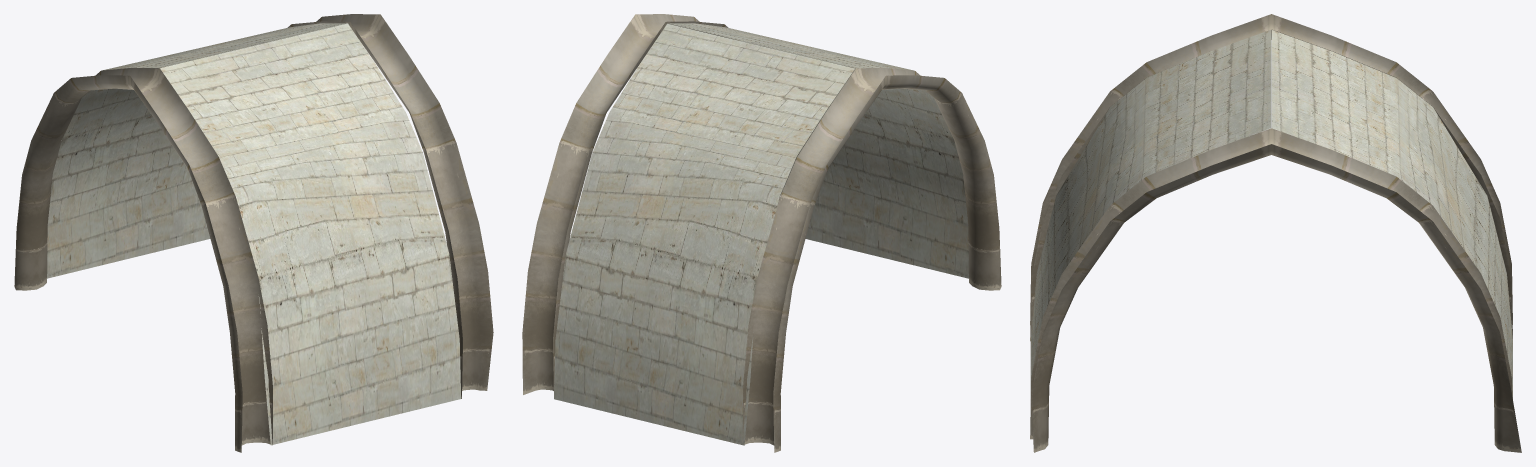
File: Cath_roof_1x2_nonerve.FBX
3 renders of one model, left to right at view 1: azimuth 30°, elevation 25°; view 2: azimuth 150°, elevation 25°; view 3: azimuth 270°, elevation 25°, orthographic. The views are drawn at different scales.
Parts seen in each view (by area): view 1: Roofwall_c1_m, Roof_bignerv2, RoofV_bignerv1; view 2: Roofwall_c1_m, Roof_bignerv2, RoofV_bignerv1; view 3: Roofwall_c1_m, RoofV_bignerv1, Roof_bignerv2.
Boxes of the visible parts, <box> form: Roofwall_c1_m: <box>47,23,461,445</box>; Roof_bignerv2: <box>14,68,272,452</box>; RoofV_bignerv1: <box>287,14,493,398</box>; Roofwall_c1_m: <box>554,23,968,445</box>; Roof_bignerv2: <box>742,68,1001,452</box>; RoofV_bignerv1: <box>522,14,779,394</box>; Roofwall_c1_m: <box>1030,29,1512,398</box>; RoofV_bignerv1: <box>1030,128,1521,452</box>; Roof_bignerv2: <box>1030,14,1512,341</box>.
Bounding box in the file's own units: 470 × 737 × 516.
